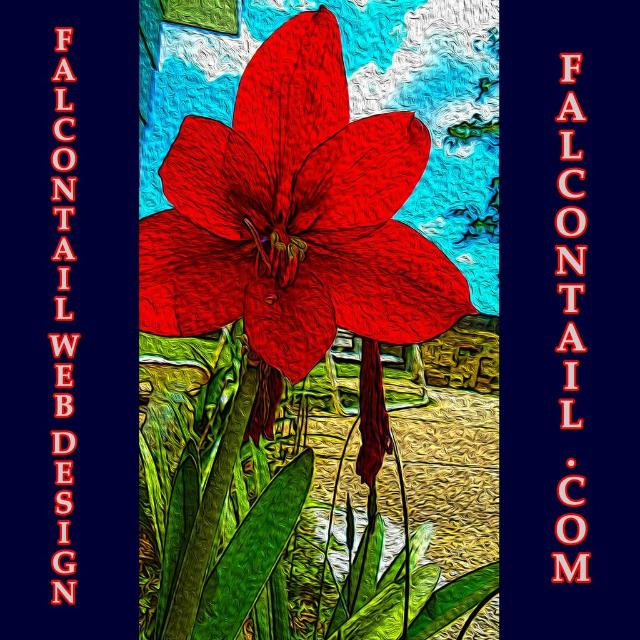Flower: (150, 32, 464, 402)
